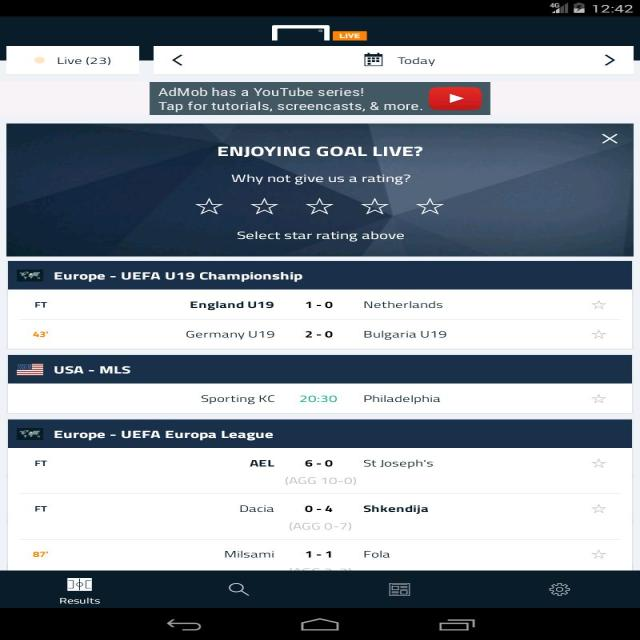button: (10, 493, 628, 541), (11, 450, 628, 492), (10, 291, 626, 321), (13, 386, 628, 414), (9, 321, 630, 348), (8, 542, 628, 568), (157, 45, 632, 78), (6, 45, 139, 78), (348, 570, 448, 609), (516, 570, 610, 611), (34, 571, 130, 608), (195, 571, 277, 607)
heading: (51, 267, 306, 285), (51, 428, 278, 443), (50, 364, 136, 376)
iframe: (149, 80, 490, 116)
image: (10, 122, 632, 255), (194, 194, 449, 218), (261, 20, 375, 45), (587, 389, 616, 408), (14, 362, 46, 377), (587, 456, 611, 475), (19, 268, 46, 284), (586, 326, 612, 342), (587, 546, 612, 562), (589, 298, 611, 315), (588, 500, 610, 517), (21, 426, 43, 439)
text: (216, 139, 426, 159), (234, 229, 406, 245), (229, 172, 414, 185), (360, 323, 453, 343), (181, 296, 277, 315), (182, 326, 276, 342), (363, 453, 439, 472), (358, 296, 450, 311), (360, 392, 446, 408), (280, 472, 360, 488), (197, 391, 281, 405), (280, 517, 356, 532), (358, 501, 426, 515), (219, 546, 281, 560), (236, 498, 286, 515), (296, 326, 343, 343), (296, 389, 338, 405), (238, 455, 276, 470), (301, 500, 344, 513), (357, 546, 392, 561), (302, 296, 334, 312), (302, 455, 335, 470), (298, 547, 338, 559), (29, 455, 51, 472), (29, 326, 51, 341), (29, 546, 50, 561), (30, 499, 48, 516), (30, 298, 51, 310)
